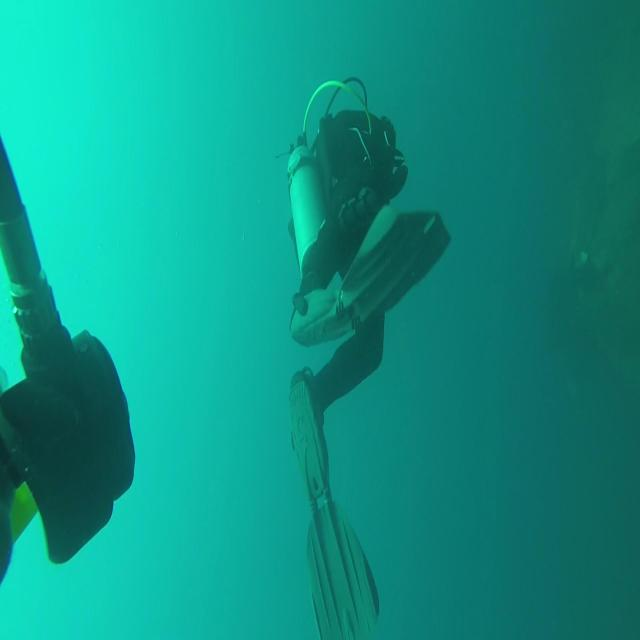human: (283, 76, 451, 637), (0, 133, 136, 585)
